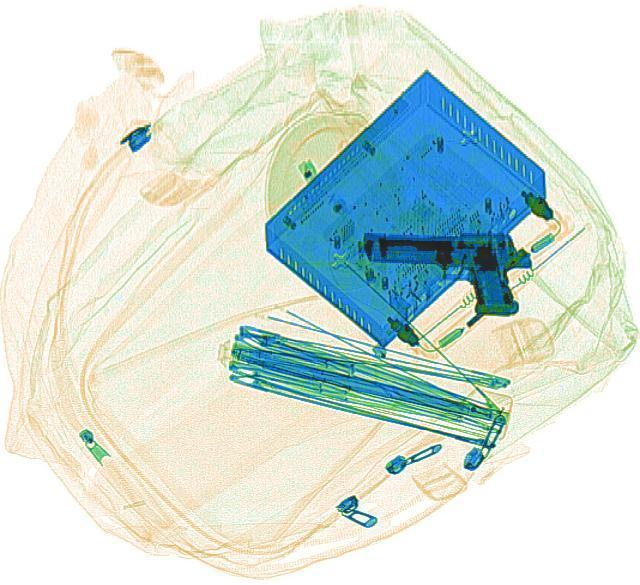Gun: (360, 231, 530, 312)
